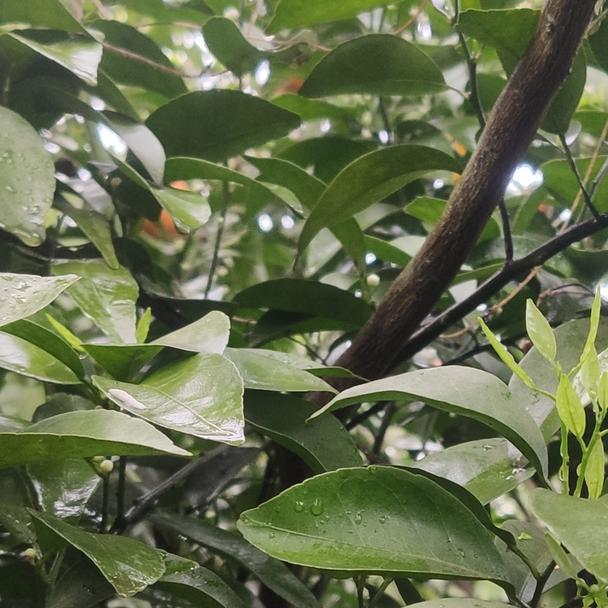shoot: (489, 291, 599, 487)
